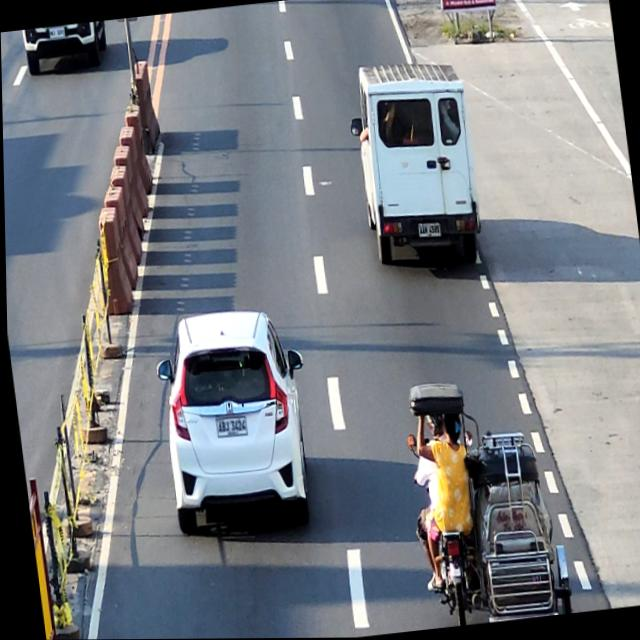Car: (150, 303, 322, 541), (344, 55, 485, 281), (21, 21, 109, 74)
License-Plate: (213, 415, 245, 438), (416, 221, 440, 239), (47, 27, 65, 38)
Tricycle: (399, 369, 571, 629)
